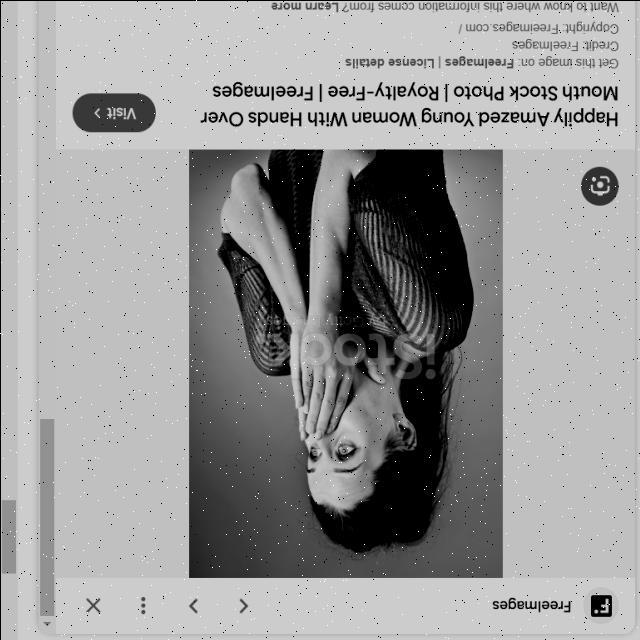face_with_hand: (279, 358, 415, 508)
